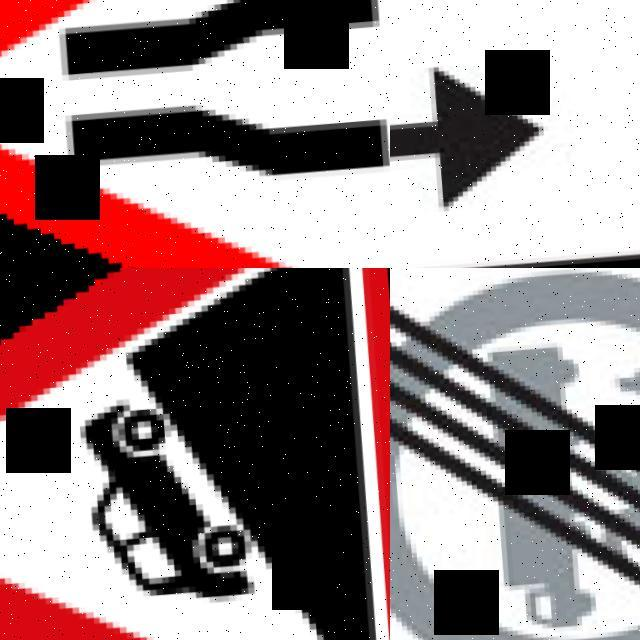111: (390, 268, 640, 640)
179: (390, 0, 640, 268)
Narrow road: (0, 0, 390, 268)
Steep ascent: (0, 268, 390, 640)
